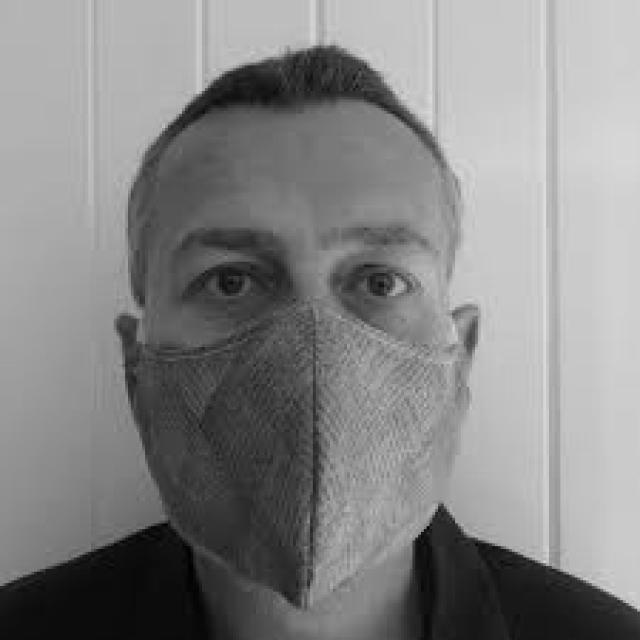fake: (118, 304, 476, 611)
real: (142, 97, 459, 586)
